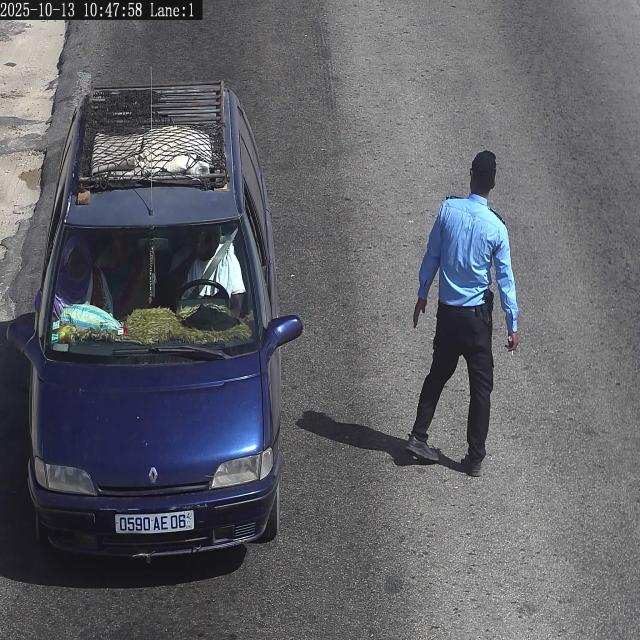BUS: (115, 511, 194, 533)
